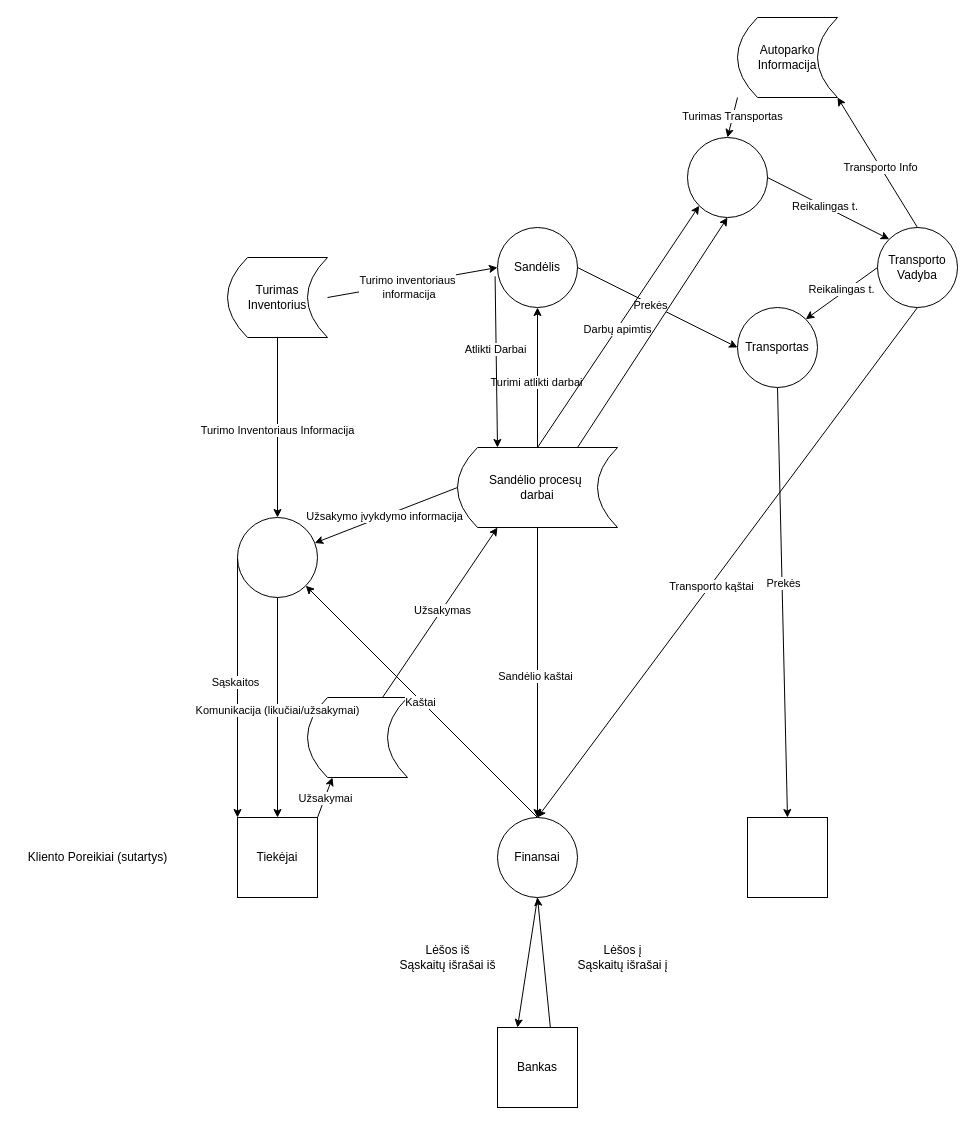
Some shapes in this 975 by 1125 pixel diagram are drawn without their labels. Each missing label, with the box of its shape:
Klientai: (746, 816, 828, 898)
Paragonas/ Tūris: (686, 136, 768, 218)
Užsakymų registras: (306, 696, 408, 778)
Vadyba: (236, 516, 318, 598)
